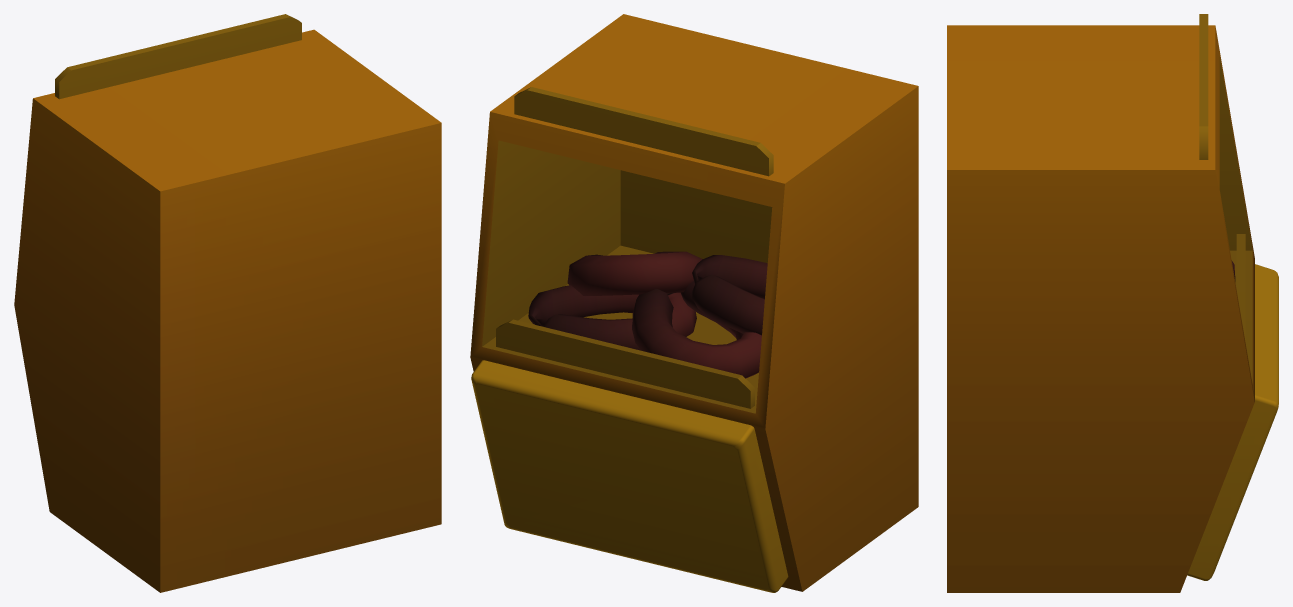
File: Shelf_Tiny_Dairy.fbx
3 renders of one model, left to right at view 1: azimuth 30°, elevation 25°; view 2: azimuth 150°, elevation 25°; view 3: azimuth 270°, elevation 25°, orthographic. The views are drawn at different scales.
Visible parts, largest first — view 1: Shelf_Tiny_Dairy; view 2: Shelf_Tiny_Dairy; view 3: Shelf_Tiny_Dairy.
Part boxes in pixels (bbox=[...]): Shelf_Tiny_Dairy: bbox=[14, 14, 441, 592]; Shelf_Tiny_Dairy: bbox=[470, 14, 918, 592]; Shelf_Tiny_Dairy: bbox=[947, 14, 1278, 592].
Size of the model in its own units: 4.99 by 7.24 by 4.84.
